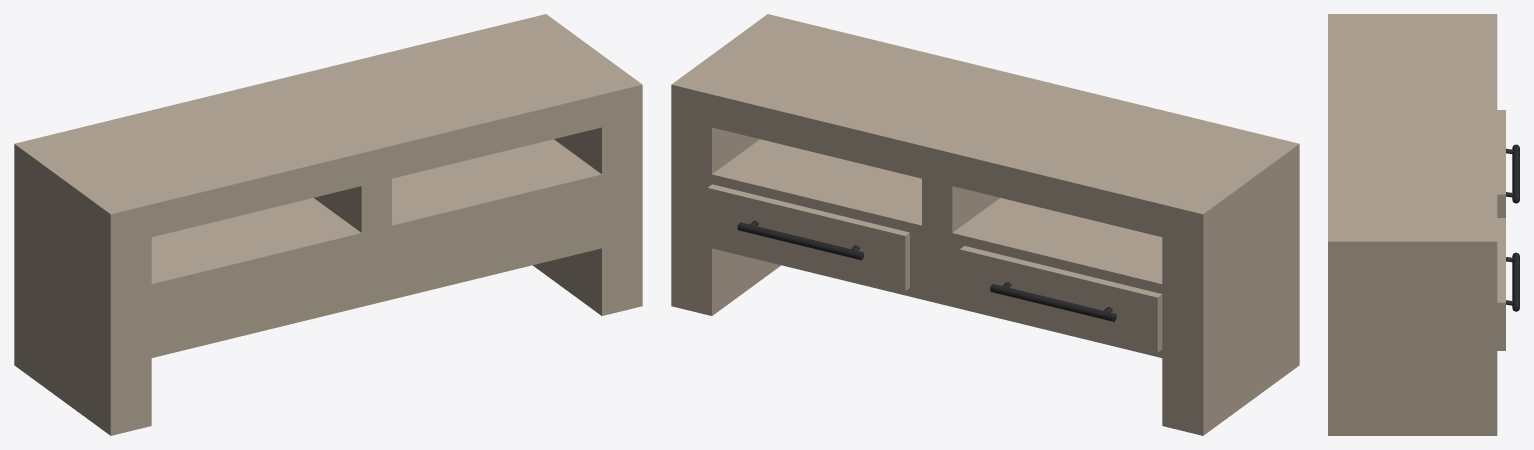
The model's file is MeubleTV_4.fbx.
3 views of the same model, side by side, from view 1: azimuth 30°, elevation 25°; view 2: azimuth 150°, elevation 25°; view 3: azimuth 270°, elevation 25° (orthographic). The views are drawn at different scales.
Parts seen in each view (by area): view 1: pCube2453; view 2: pCube2453, pCube2455, pCube2454, pCylinder1565, pCylinder1700; view 3: pCube2453, pCube2454, pCube2455, pCylinder1565, pCylinder1700.
Part boxes in pixels (box(x1,y1,x2,y2)): pCube2453: box(14, 14, 642, 435); pCube2453: box(671, 14, 1299, 435); pCube2455: box(959, 246, 1162, 352); pCube2454: box(707, 184, 909, 290); pCylinder1565: box(990, 284, 1116, 321); pCylinder1700: box(737, 222, 863, 260); pCube2453: box(1328, 14, 1497, 435); pCube2454: box(1497, 218, 1505, 350); pCube2455: box(1497, 110, 1505, 217); pCylinder1565: box(1512, 144, 1519, 203); pCylinder1700: box(1512, 252, 1519, 311).
Bounding box in the file's own units: 86.34 × 34.37 × 30.74.
